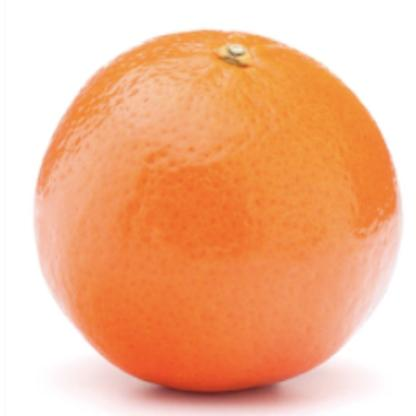fresh: (38, 32, 398, 391)
